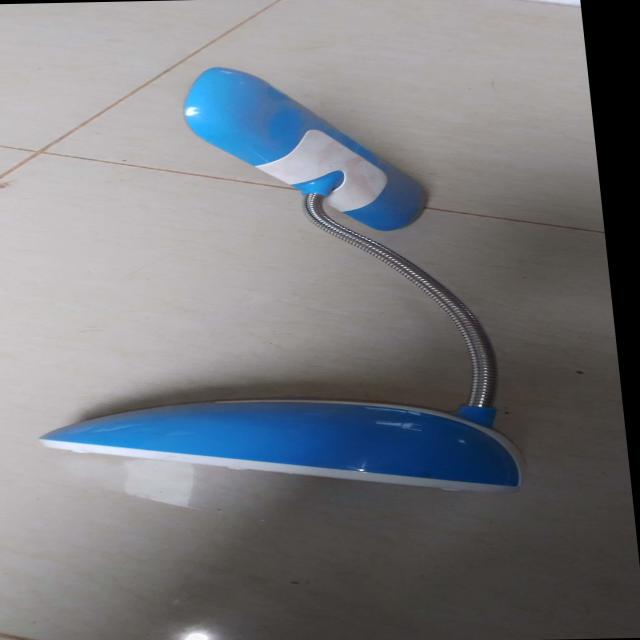Lantern: (0, 56, 556, 532)
